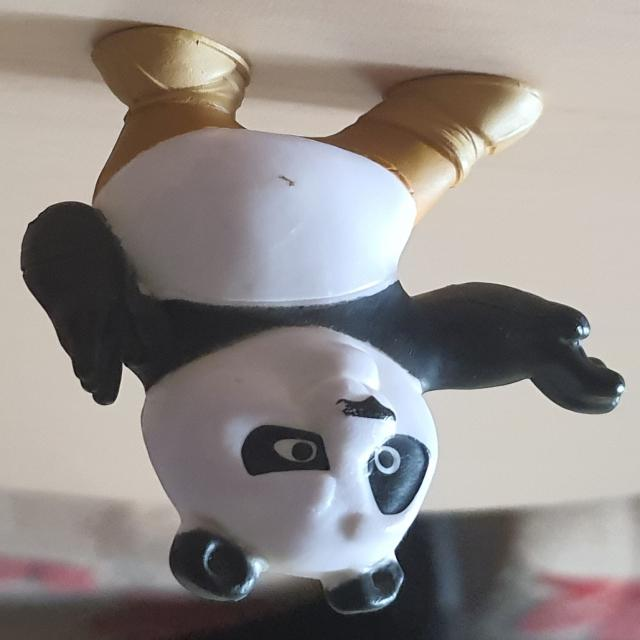Panda: (19, 25, 626, 616)
